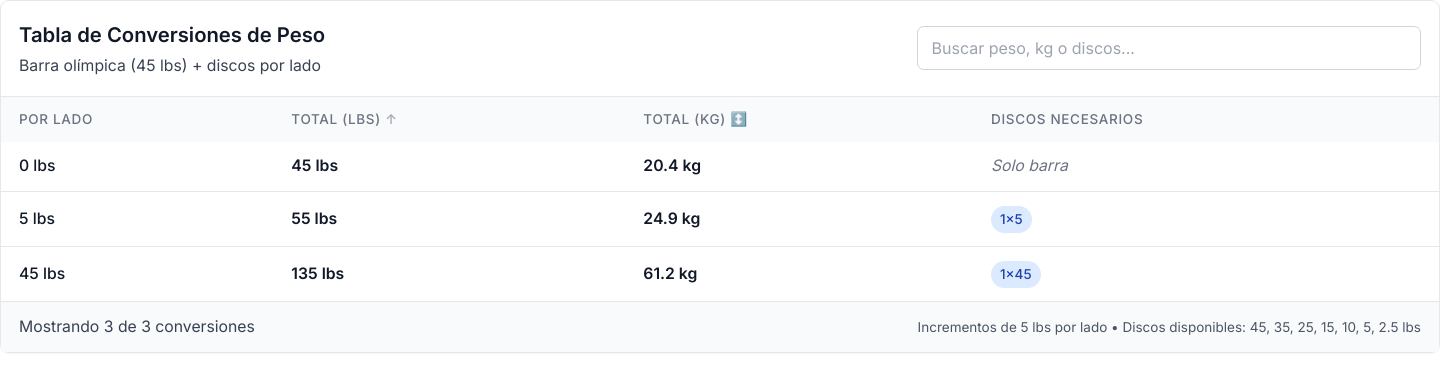
WeightConversionsTable › filters conversions based on search term
# Search for "45"
Type "45" into the field with placeholder "Buscar peso, kg o discos..." at {"x": 1169, "y": 48}, box left=917, top=26, right=1421, bottom=70
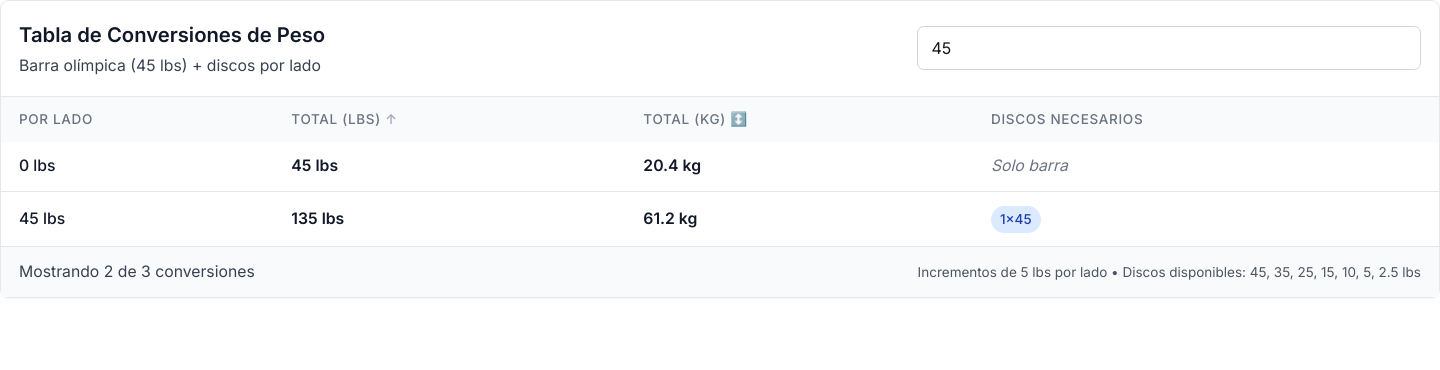
Check: the text "135 lbs" is shown, box left=291, top=209, right=344, bottom=228
Check: the text "45 lbs" is shown 2 times, box left=291, top=156, right=338, bottom=175; left=19, top=209, right=65, bottom=228
